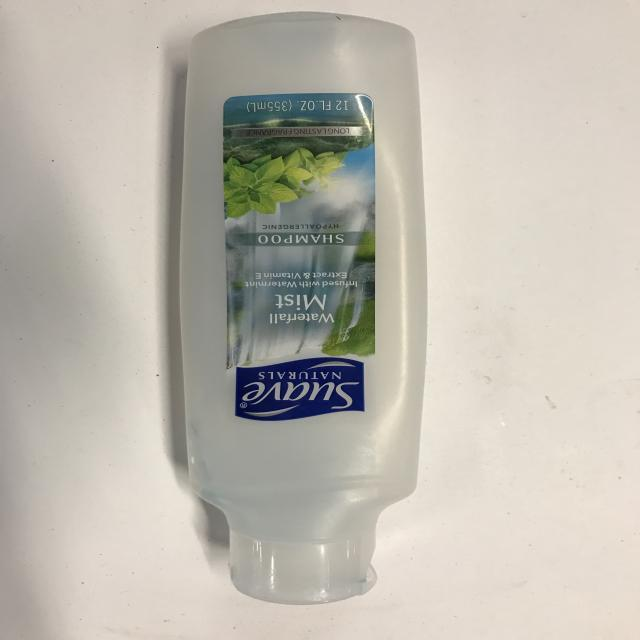plastic: (182, 24, 430, 608)
